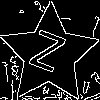Z: (24, 29, 67, 82)
